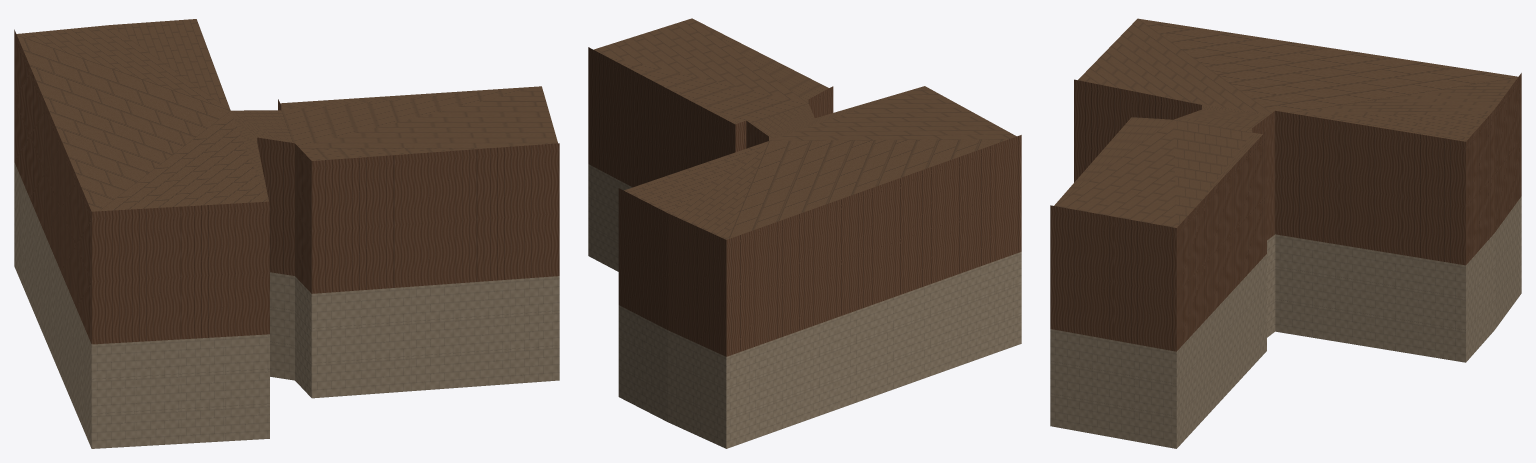
File: bld_c-8_-37_961.gltf
The picture shows the model from 3 angles, left to right: view 1: azimuth 30°, elevation 25°; view 2: azimuth 150°, elevation 25°; view 3: azimuth 270°, elevation 25°; orthographic projection. The views are drawn at different scales.
Visible parts, largest first — view 1: bld_c-8_-37_961; view 2: bld_c-8_-37_961; view 3: bld_c-8_-37_961.
Part boxes in pixels (x1,y1,x2,y2): bld_c-8_-37_961: (14,19,559,448); bld_c-8_-37_961: (588,18,1021,448); bld_c-8_-37_961: (1050,18,1521,448).
Size of the model in its own units: 24.07 by 11.58 by 22.39.
Materials: 4 (4 with a texture image).
